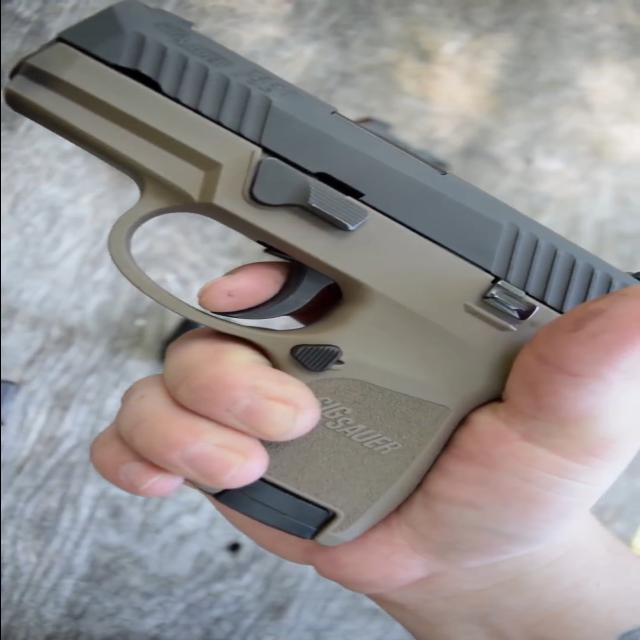handgun: (9, 0, 604, 548)
